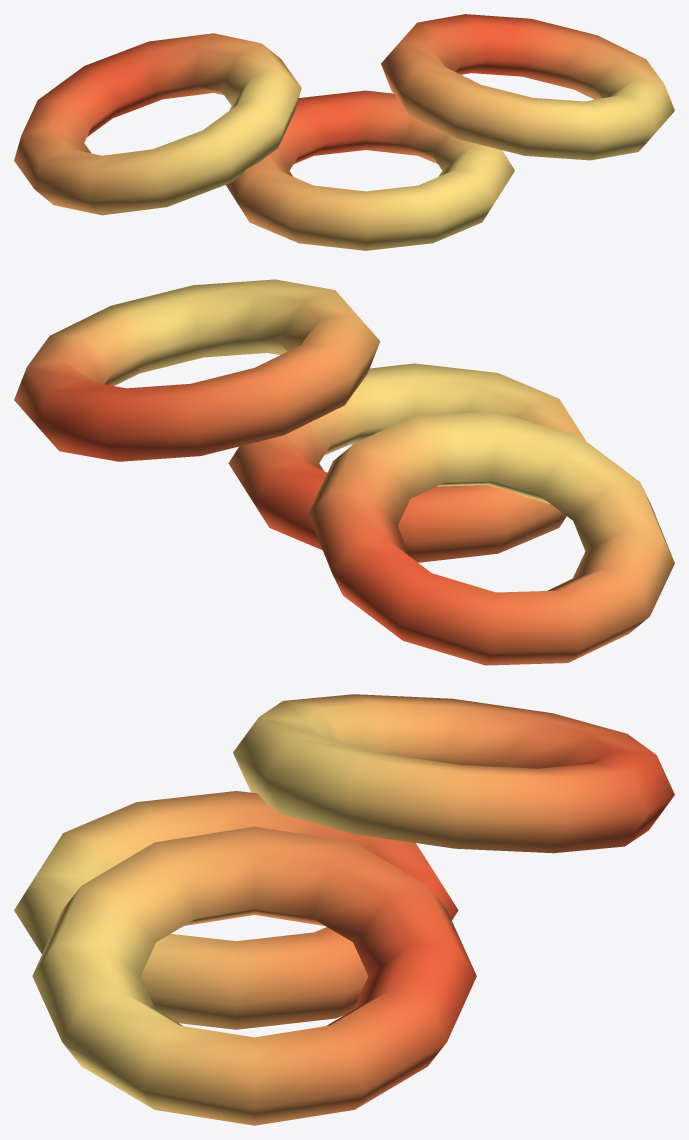
File: VFX_PeachRings.fbx
3 views of the same model, one above another, from view 1: azimuth 30°, elevation 25°; view 2: azimuth 150°, elevation 25°; view 3: azimuth 270°, elevation 25° (orthographic). The views are drawn at different scales.
Parts seen in each view (by area): view 1: Peach Rings; view 2: Peach Rings; view 3: Peach Rings.
Part boxes in pixels (box(x1,y1,x2,y2)): Peach Rings: box(14, 14, 674, 250); Peach Rings: box(14, 279, 674, 665); Peach Rings: box(14, 694, 674, 1125).
Size of the model in its own units: 0.1163 by 0.0228 by 0.0805.
